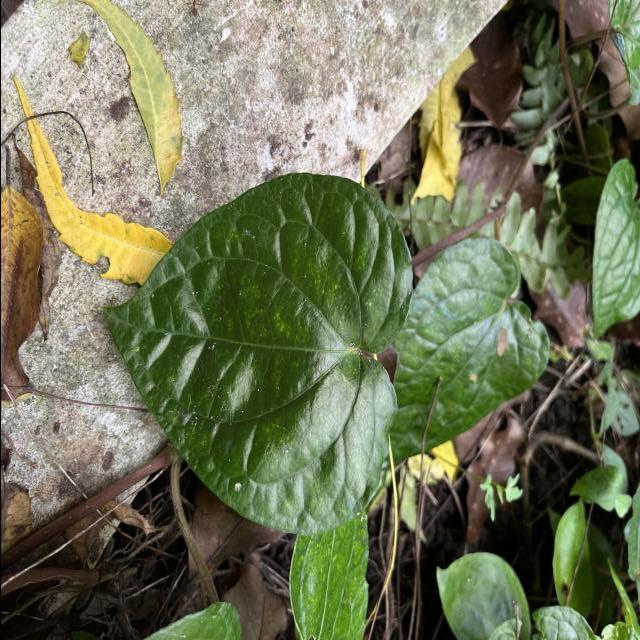Piper betle: (95, 167, 420, 537)
